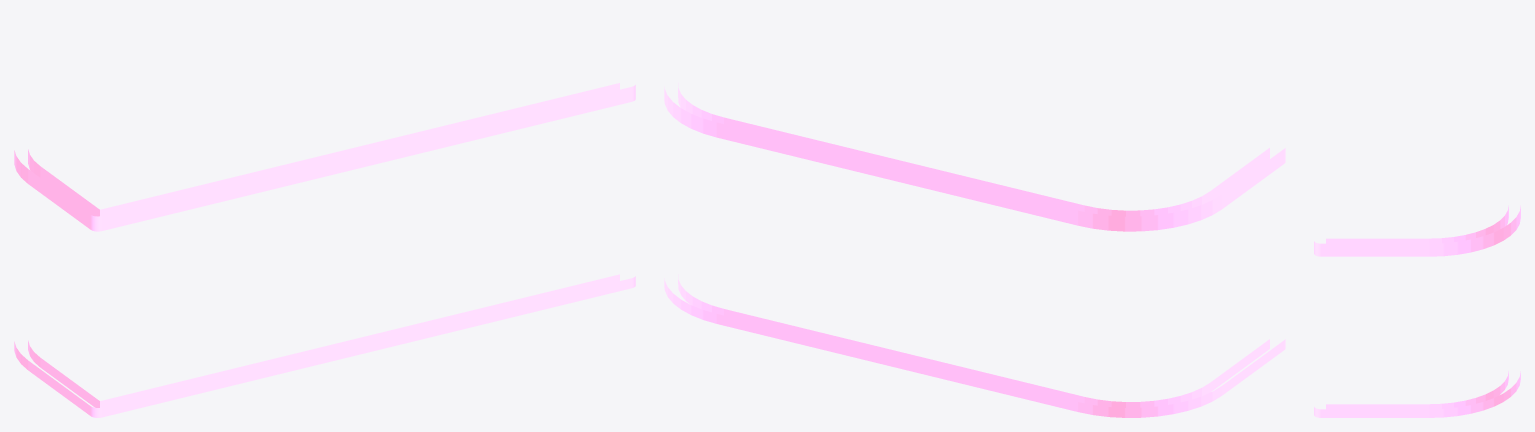
Rendered from mw_strip_c.glb.
3 views of the same model, side by side, from view 1: azimuth 30°, elevation 25°; view 2: azimuth 150°, elevation 25°; view 3: azimuth 270°, elevation 25° (orthographic). The views are drawn at different scales.
Parts seen in each view (by area): view 1: strip; view 2: strip; view 3: strip.
Boxes of the visible parts, <box> form: strip: <box>14,83,635,417</box>; strip: <box>664,83,1285,417</box>; strip: <box>1314,205,1520,417</box>.
Bounding box in the file's own units: 2.26 × 0.8 × 0.86.
